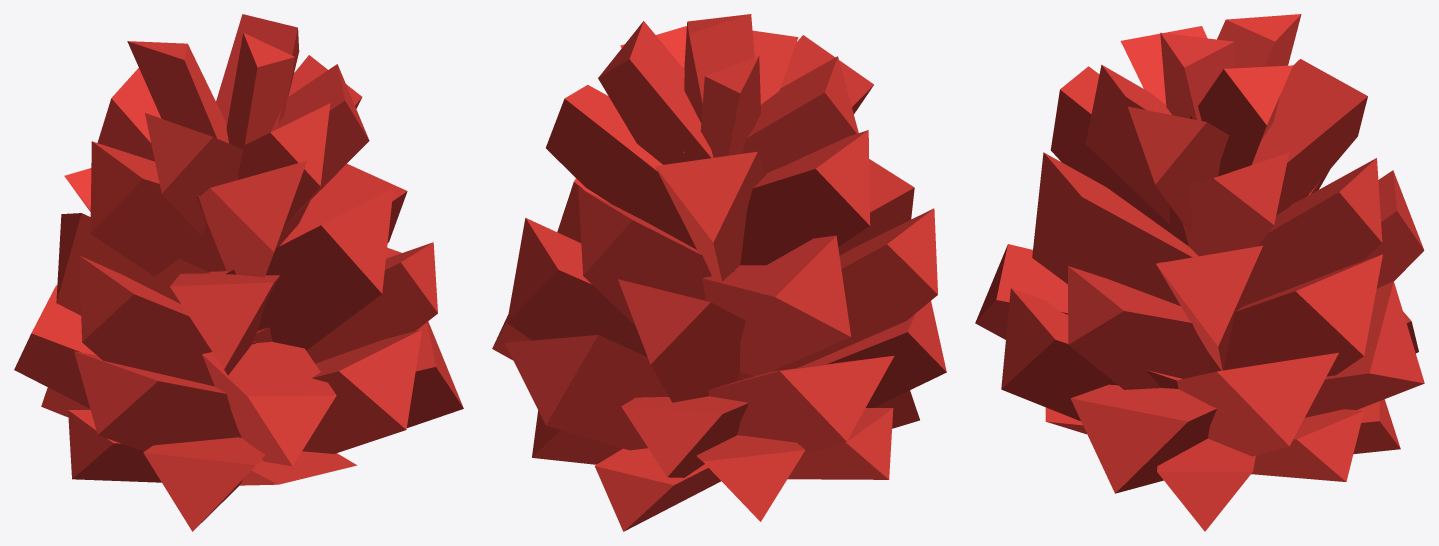
Rendered from SM_Pinecone.fbx.
3 views of the same model, side by side, from view 1: azimuth 30°, elevation 25°; view 2: azimuth 150°, elevation 25°; view 3: azimuth 270°, elevation 25° (orthographic). The views are drawn at different scales.
Parts seen in each view (by area): view 1: pinecone; view 2: pinecone; view 3: pinecone.
Part boxes in pixels (x1,y1,x2,y2): pinecone: (14,14,463,531); pinecone: (492,14,946,531); pinecone: (975,14,1424,531).
Size of the model in its own units: 0.1 by 0.1132 by 0.1054.
